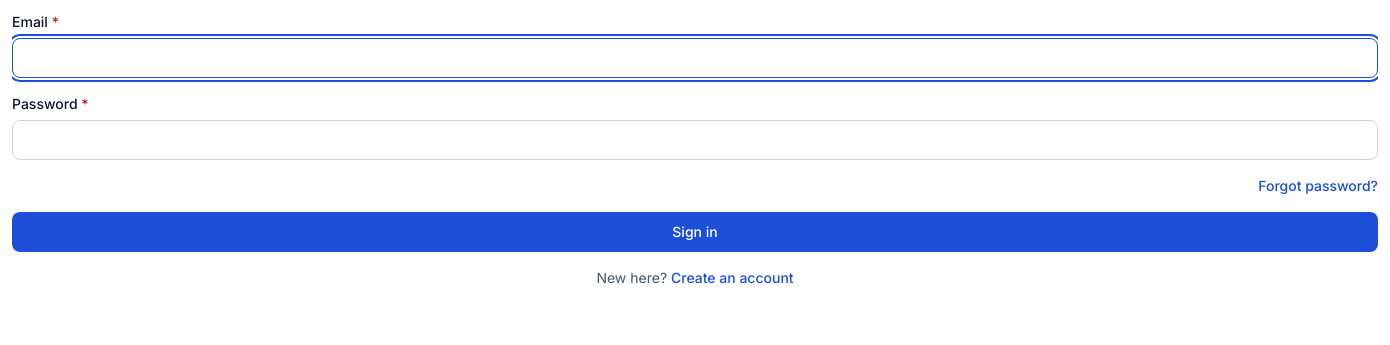
Scenario: LoginForm › shows field errors and does not submit empty
Step 1. Click the button "Sign in" → (695, 232), box top-left (12, 212), bottom-right (1378, 252)
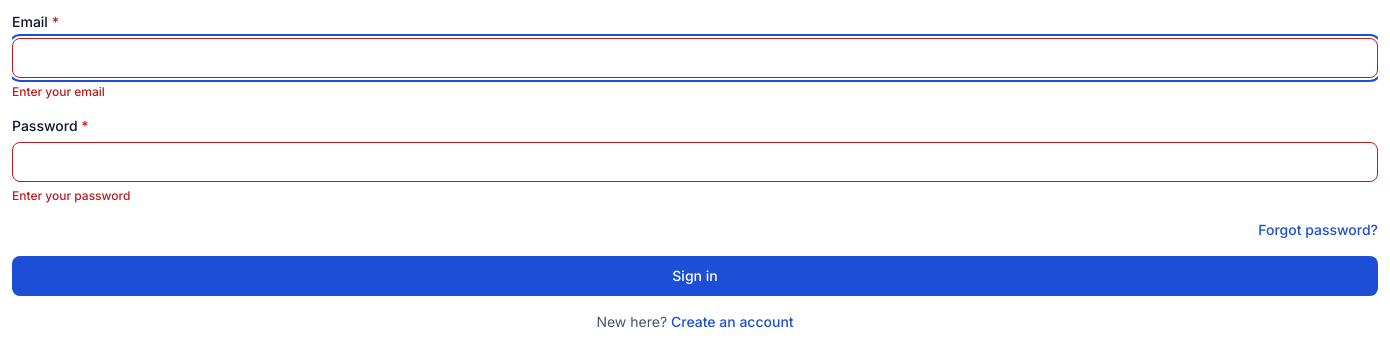
Check: the text "Enter your email" is shown, box top-left (12, 84), bottom-right (105, 99)
